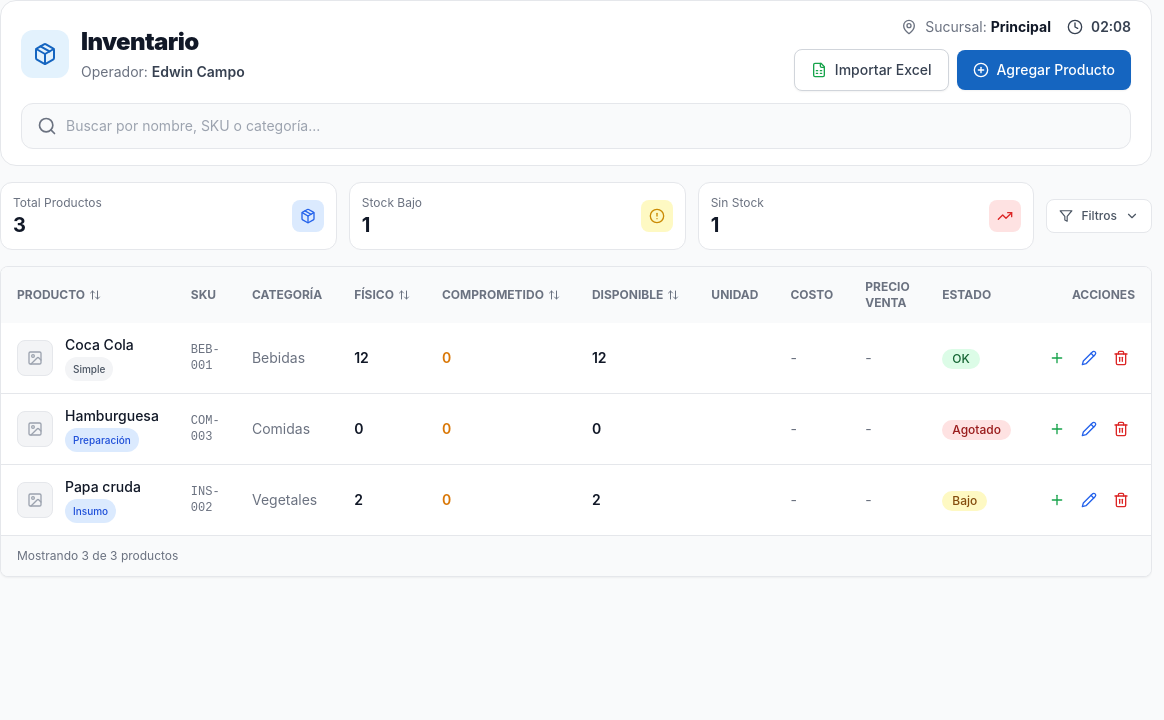
Scenario: Inventario: encabezado estilo POS con buscador › abrir filtros no modifica resultados hasta elegir una opción
The width and height of the screenshot is (1164, 720).
Expected: the text "Coca Cola" is shown, x1=65 y1=335 x2=134 y2=355
Click the button "Filtros".
click(1099, 216)  # box x1=1046 y1=199 x2=1152 y2=233
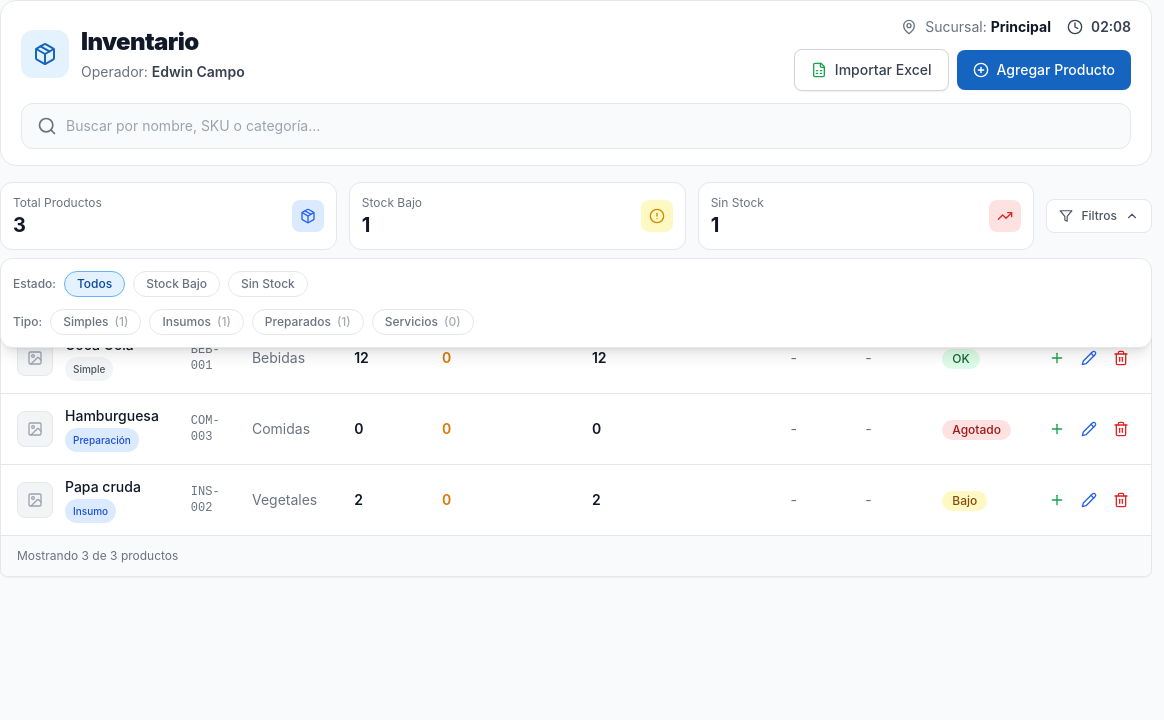
Expected: the text "Mostrando 3 de 3 productos" is shown, x1=1 y1=535 x2=1151 y2=576
Now the element named "Filtros de inventario" is shown, box x1=0 y1=258 x2=1152 y2=348
Click the button "Sin Stock".
click(268, 284)  # box x1=228 y1=271 x2=308 y2=297
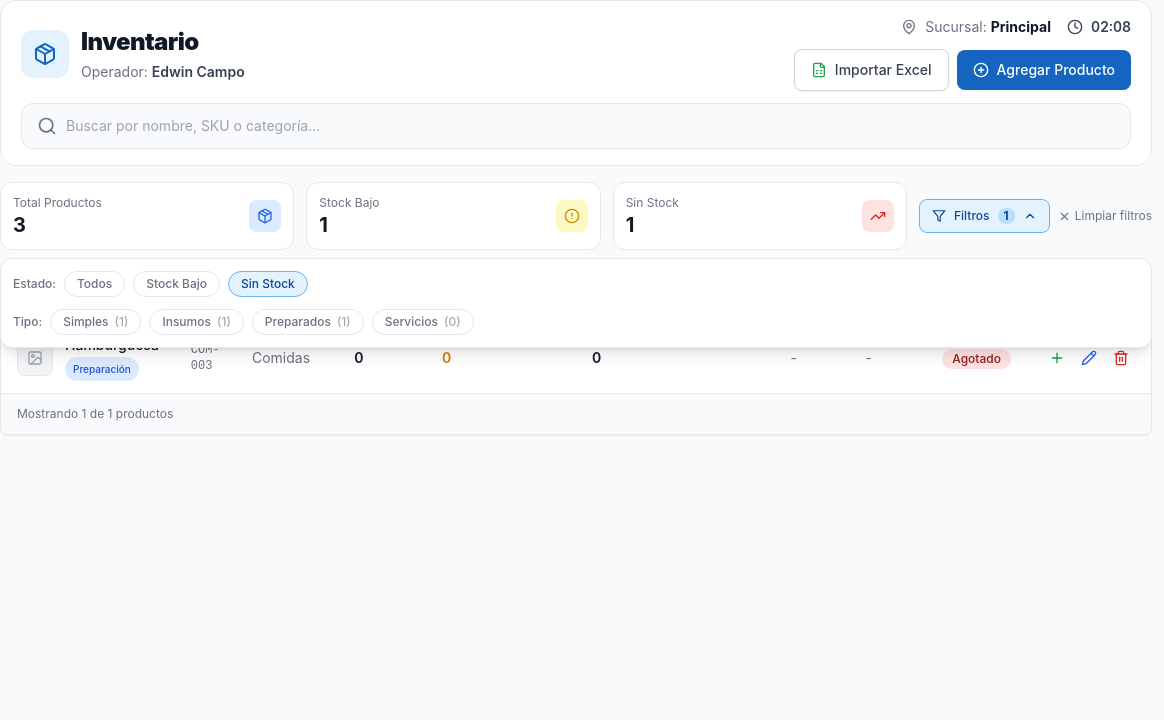
Expected: the text "Hamburguesa" is shown, x1=65 y1=335 x2=159 y2=355
Now the text "Coca Cola" is gone
